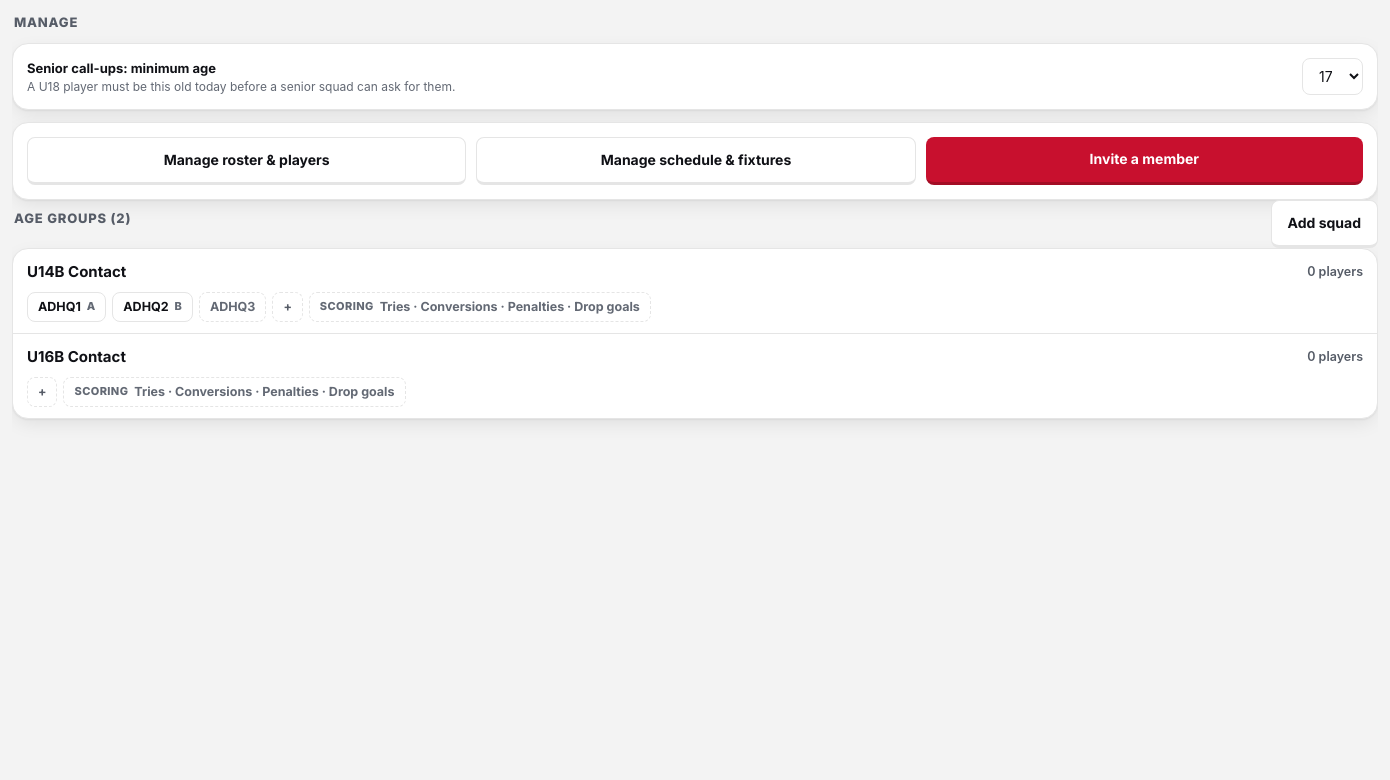
AdminClub — the club's league teams › ⚠️ says that retiring keeps the label on fixtures already played
What coordinates should you click on to do the following:
click the button with aria-label "ADHQ2, Division B"
I would click on:
 (153, 307)
Its box is [112, 292, 193, 322].
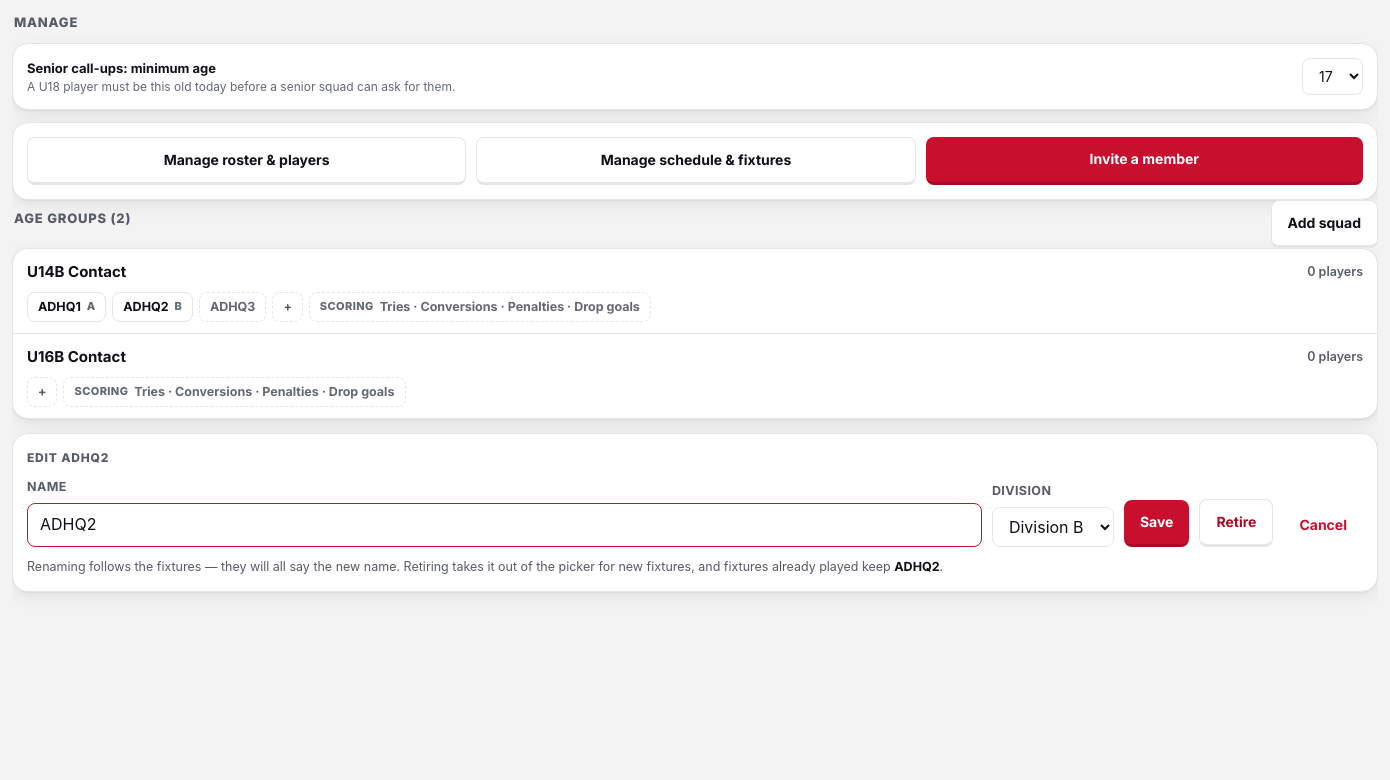
Now the text "fixtures already played keep" is shown, box [27, 559, 891, 574]
